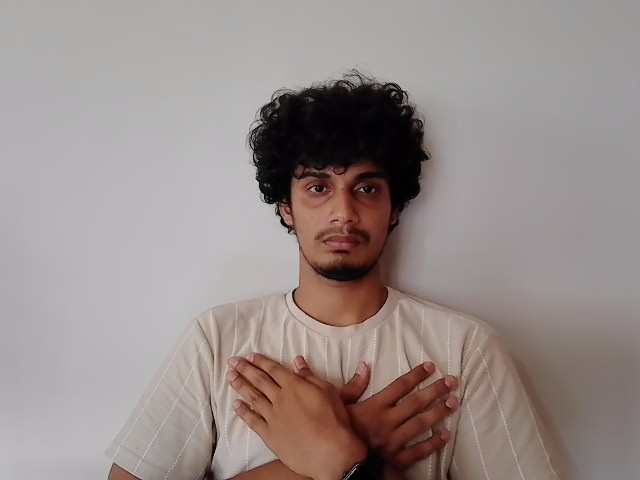relaxing: (227, 350, 467, 478)
